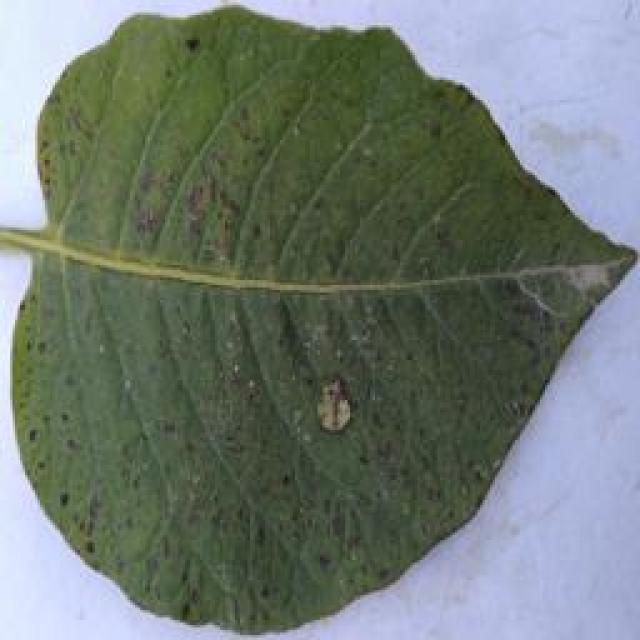Potato_Early_Blight: (10, 8, 640, 634)
